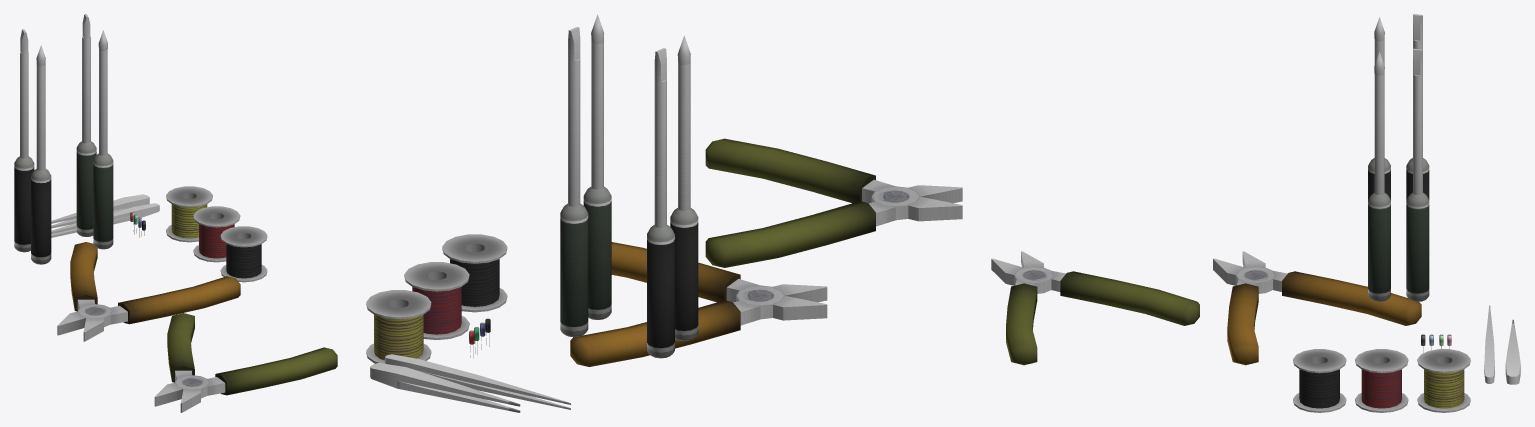
File: green_pliers.FBX
The picture shows the model from 3 angles, left to right: view 1: azimuth 30°, elevation 25°; view 2: azimuth 150°, elevation 25°; view 3: azimuth 270°, elevation 25°; orthographic projection. The views are drawn at different scales.
Parts seen in each view (by area): view 1: green_pliers, yellow_pliers, screwdriver_3, screwdriver_4, screwdriver_2, screwdriver_1, blue_wires, yellow_wires, red_wires, tweezers_long, tweezers_Short; view 2: green_pliers, yellow_pliers, screwdriver_2, screwdriver_1, screwdriver_4, screwdriver_3, yellow_wires, blue_wires, red_wires, tweezers_Short, tweezers_long; view 3: green_pliers, yellow_pliers, screwdriver_2, screwdriver_4, red_wires, blue_wires, yellow_wires, screwdriver_3, screwdriver_1, tweezers_Short, tweezers_long.
Boxes of the visible parts, x1,y1,x2,y2 form: green_pliers: (154,313,337,412); yellow_pliers: (57,242,240,341); screwdriver_3: (31,45,51,264); screwdriver_4: (93,30,144,249); screwdriver_2: (76,14,96,236); screwdriver_1: (14,29,34,252); blue_wires: (220,226,267,282); yellow_wires: (166,186,212,242); red_wires: (193,206,240,262); tweezers_long: (51,203,159,237); tweezers_Short: (51,194,149,228); green_pliers: (705,138,962,267); yellow_pliers: (570,242,827,366); screwdriver_2: (560,27,588,337); screwdriver_1: (647,48,674,358); screwdriver_4: (470,14,611,358); screwdriver_3: (670,35,698,341); yellow_wires: (366,290,431,363); blue_wires: (442,234,507,312); red_wires: (404,262,469,339); tweezers_Short: (370,363,520,412); tweezers_long: (384,354,570,409); green_pliers: (991,251,1199,365); yellow_pliers: (1213,251,1421,365); screwdriver_2: (1406,48,1429,301); screwdriver_4: (1368,52,1449,353); red_wires: (1355,349,1408,412); blue_wires: (1293,349,1346,412); yellow_wires: (1417,349,1470,412); screwdriver_3: (1368,17,1390,199); screwdriver_1: (1406,14,1429,199); tweezers_Short: (1505,319,1520,384); tweezers_long: (1484,305,1494,383).
Bounding box in the file's own units: 319 × 321 × 533.
1 material, 1 textured.
